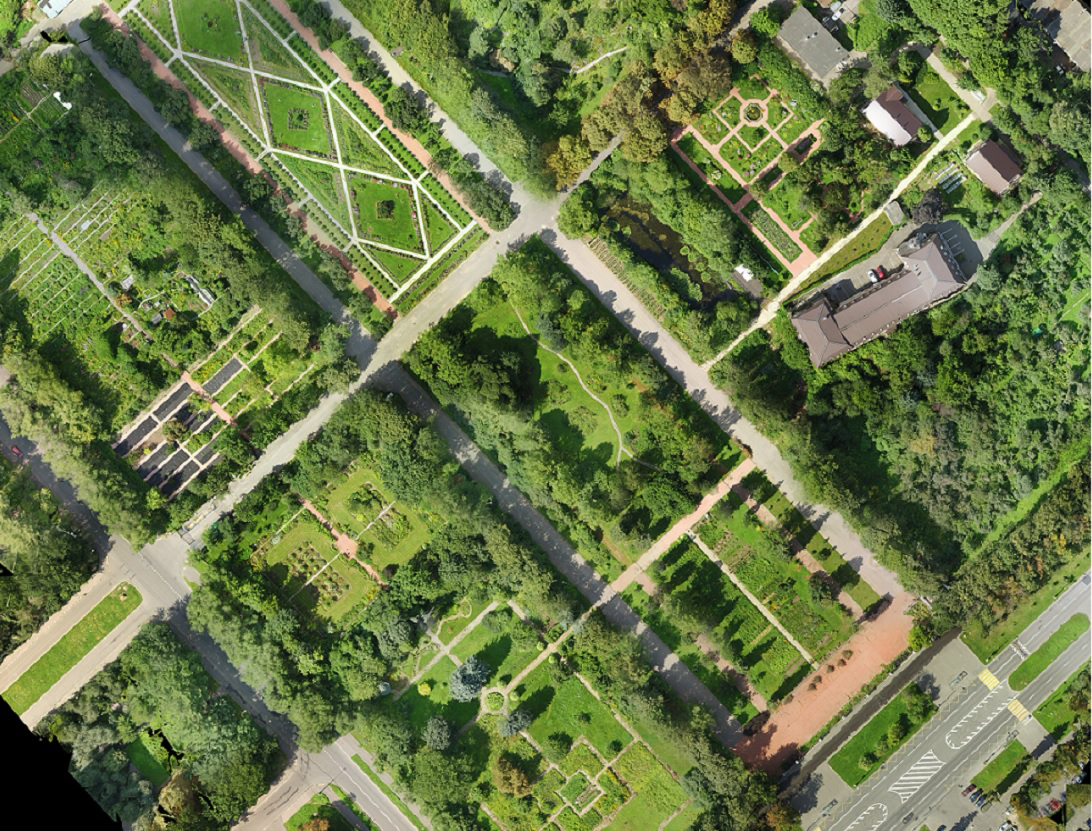build: (787, 236, 967, 366), (773, 3, 856, 84), (863, 86, 924, 144), (966, 137, 1019, 195)
